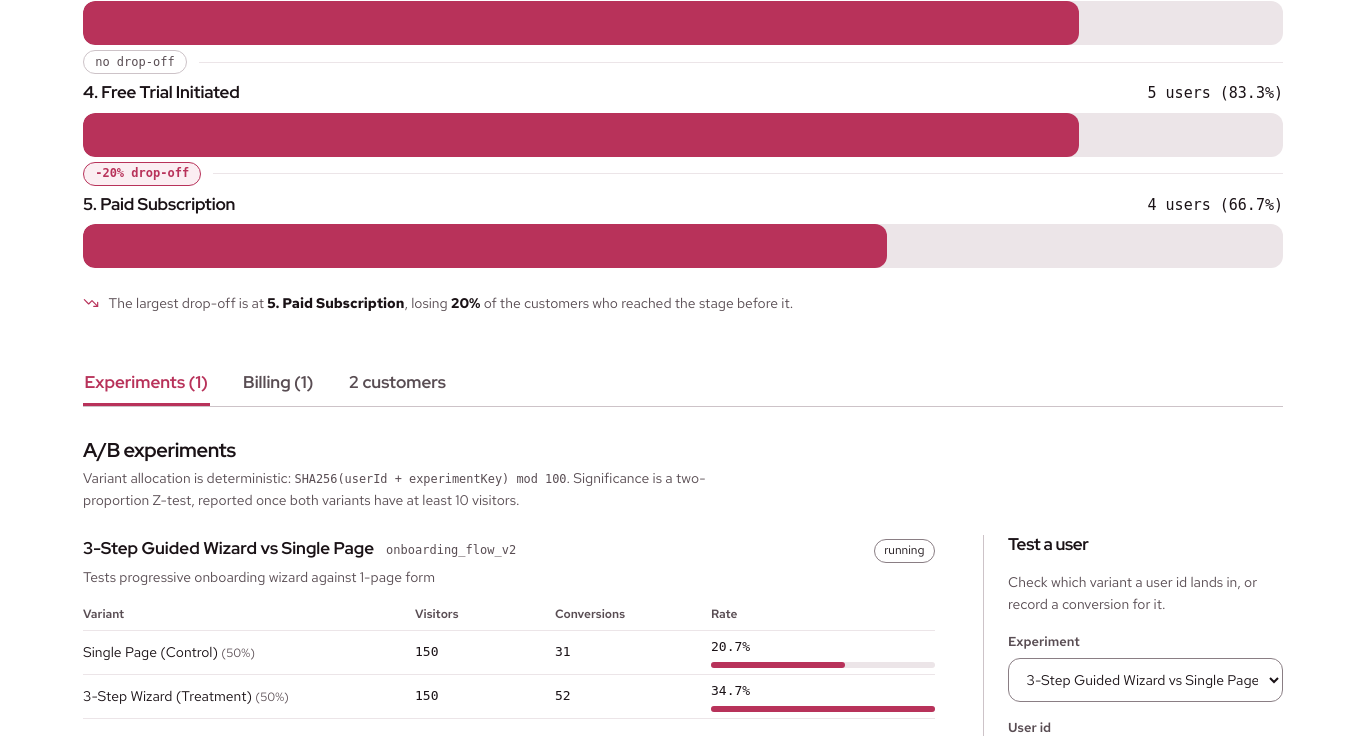
Scenario: CraftFunnel Frontend Dashboard › switches to the customers tab and displays the customer directory
The width and height of the screenshot is (1366, 736).
(page scrolled)
Click the tab "2 customers" at point(397, 384), box [347, 362, 448, 406]
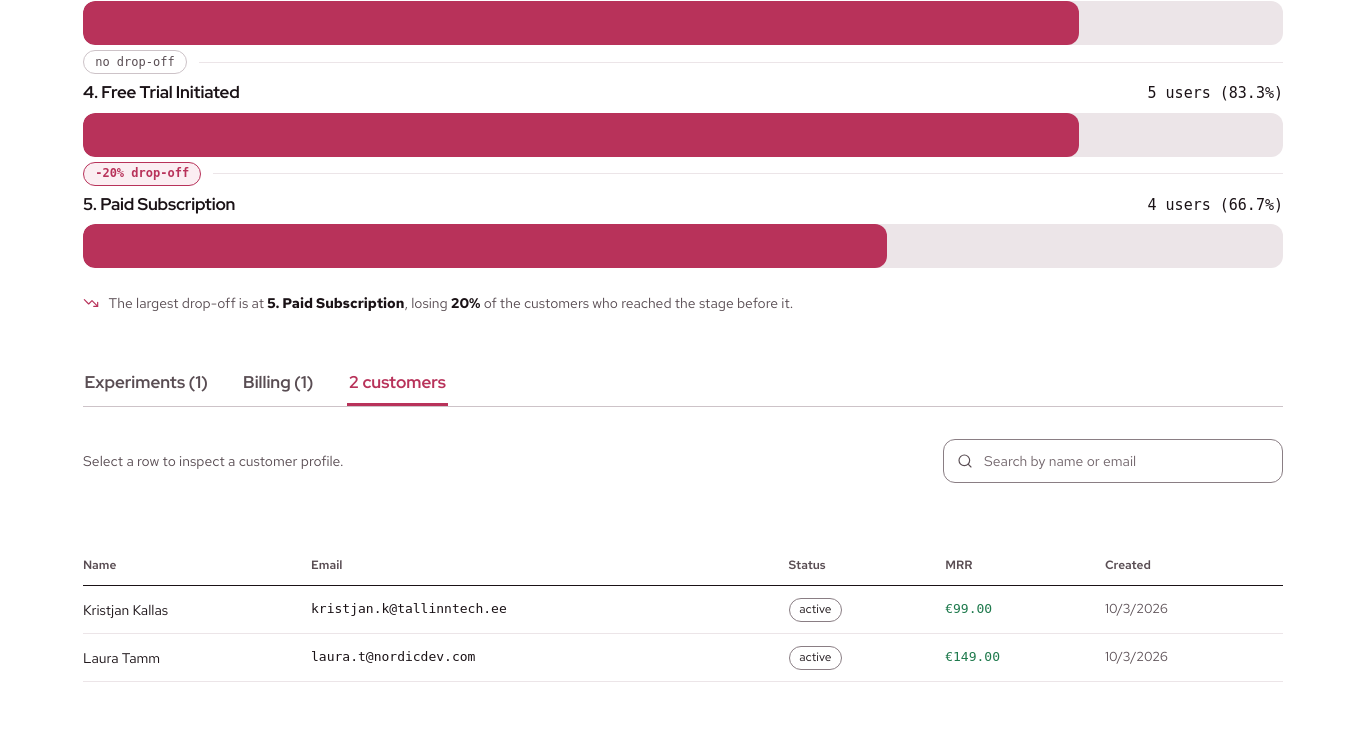
Now the text "Kristjan Kallas" is shown, box [83, 586, 311, 634]
Now the text "laura.t@nordicdev.com" is shown, box [311, 634, 788, 682]
